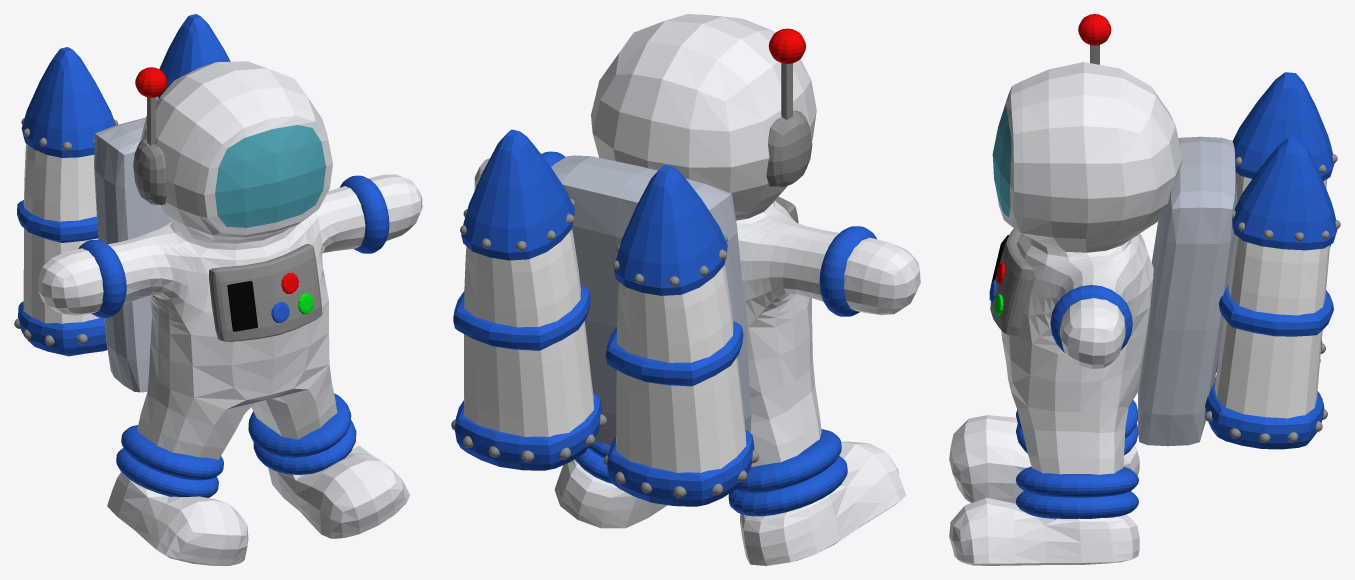
The model's file is aaaa.fbx.
3 renders of one model, left to right at view 1: azimuth 30°, elevation 25°; view 2: azimuth 150°, elevation 25°; view 3: azimuth 270°, elevation 25°, orthographic. The views are drawn at different scales.
Visible parts, largest first — view 1: pSphere70; view 2: pSphere70; view 3: pSphere70.
Boxes of the visible parts, <box> form: pSphere70: <box>14,14,422,565</box>; pSphere70: <box>451,14,920,565</box>; pSphere70: <box>949,14,1340,565</box>.
Size of the model in its own units: 21.19 by 24.67 by 18.49.
